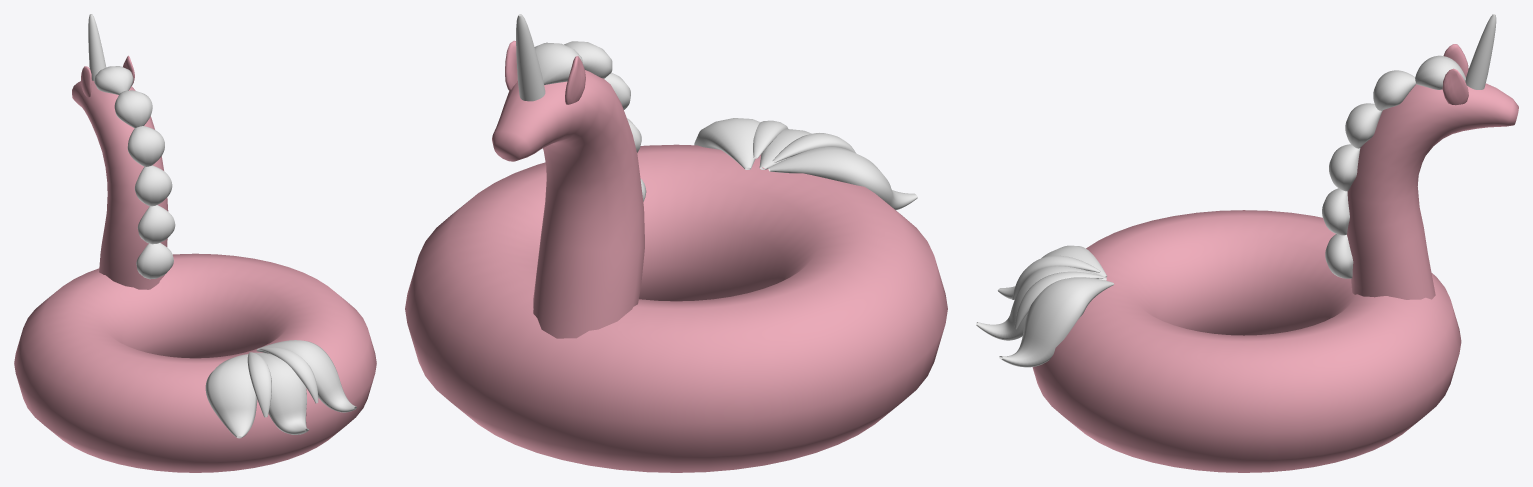
Rendered from unicorn.fbx.
The picture shows the model from 3 angles, left to right: view 1: azimuth 30°, elevation 25°; view 2: azimuth 150°, elevation 25°; view 3: azimuth 270°, elevation 25°; orthographic projection. The views are drawn at different scales.
Visible parts, largest first — view 1: Torus, Cylinder, NurbsPath.008, NurbsPath.006, NurbsPath.007, NurbsPath.001, NurbsPath.003, NurbsPath, NurbsPath.004, NurbsPath.005, NurbsPath.009, NurbsPath.010 (+2 smaller); view 2: Torus, Cylinder, NurbsPath.008, NurbsPath.007, Cylinder.001, NurbsPath.002, NurbsPath.009, NurbsPath, NurbsPath.006, NurbsPath.010, Cube.003; view 3: Torus, Cylinder, NurbsPath.007, NurbsPath.006, NurbsPath, Cylinder.001, NurbsPath.001, NurbsPath.003, NurbsPath.004, NurbsPath.002, NurbsPath.005, NurbsPath.010 (+3 smaller).
Boxes of the visible parts, x1,y1,x2,y2 form: Torus: [14, 253, 376, 472]; Cylinder: [72, 80, 168, 289]; NurbsPath.008: [205, 354, 257, 438]; NurbsPath.006: [254, 352, 309, 434]; NurbsPath.007: [256, 340, 356, 412]; NurbsPath.001: [127, 126, 164, 166]; NurbsPath.003: [134, 165, 172, 206]; NurbsPath: [114, 90, 152, 128]; NurbsPath.004: [137, 205, 175, 244]; NurbsPath.005: [136, 243, 173, 279]; NurbsPath.009: [247, 352, 271, 417]; NurbsPath.010: [259, 347, 318, 403]; Torus: [405, 144, 947, 472]; Cylinder: [492, 70, 644, 338]; NurbsPath.008: [768, 147, 917, 209]; NurbsPath.007: [694, 118, 760, 169]; Cylinder.001: [516, 14, 545, 101]; NurbsPath.002: [534, 42, 583, 84]; NurbsPath.009: [772, 133, 855, 162]; NurbsPath: [564, 41, 612, 78]; NurbsPath.006: [759, 129, 811, 169]; NurbsPath.010: [753, 120, 788, 158]; Cube.003: [565, 56, 585, 104]; Torus: [1032, 210, 1461, 472]; Cylinder: [1347, 77, 1518, 299]; NurbsPath.007: [999, 277, 1114, 367]; NurbsPath.006: [976, 266, 1106, 340]; NurbsPath: [1373, 70, 1416, 110]; Cylinder.001: [1465, 14, 1496, 89]; NurbsPath.001: [1345, 103, 1382, 148]; NurbsPath.003: [1329, 144, 1360, 191]; NurbsPath.004: [1322, 188, 1349, 235]; NurbsPath.002: [1415, 55, 1465, 89]; NurbsPath.005: [1325, 234, 1353, 278]; NurbsPath.010: [1014, 271, 1103, 329].
Bounding box in the file's own units: 650 × 642 × 811.
